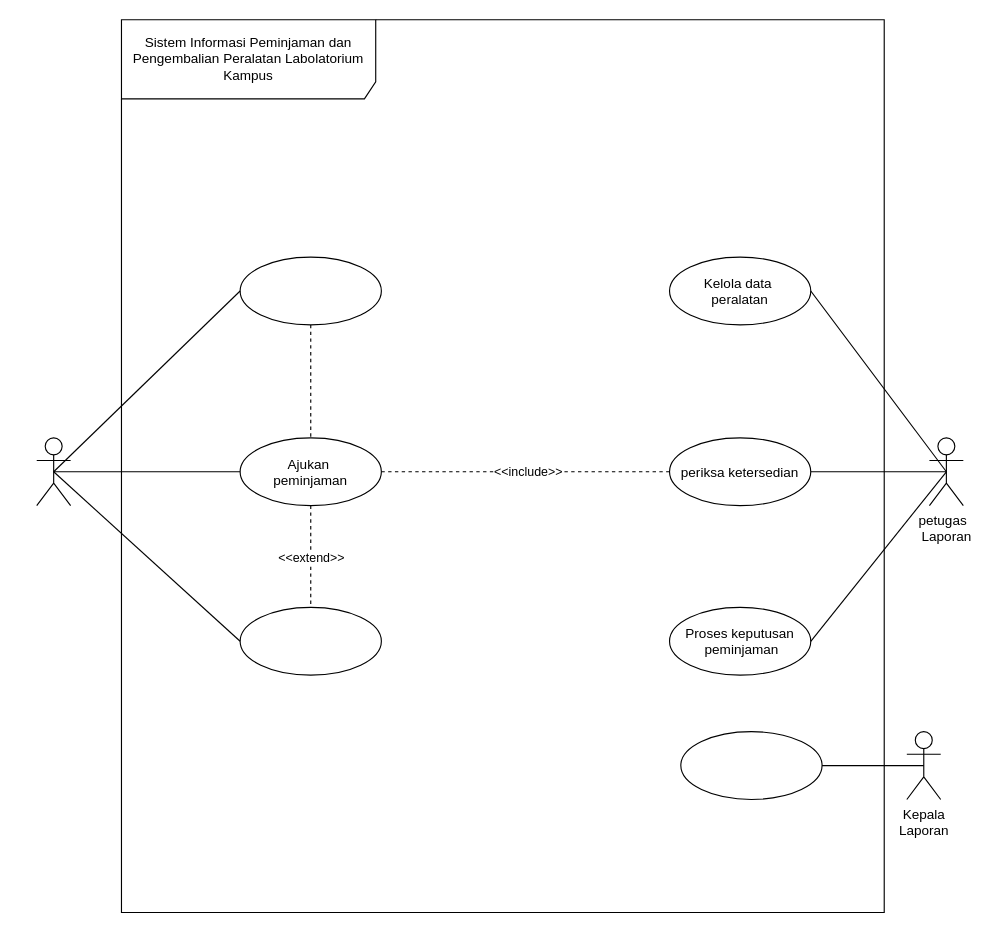
Some shapes in this 993 by 932 pixel diagram are drawn without their labels. Each missing label, with the box of its shape:
Cek bukti pengajuan: (239, 606, 381, 675)
Lihat Ketersediaan Peralatan: (239, 256, 381, 325)
LIhat laporan peminjaman: (680, 731, 822, 799)
Mahasiswa: (36, 437, 71, 506)
